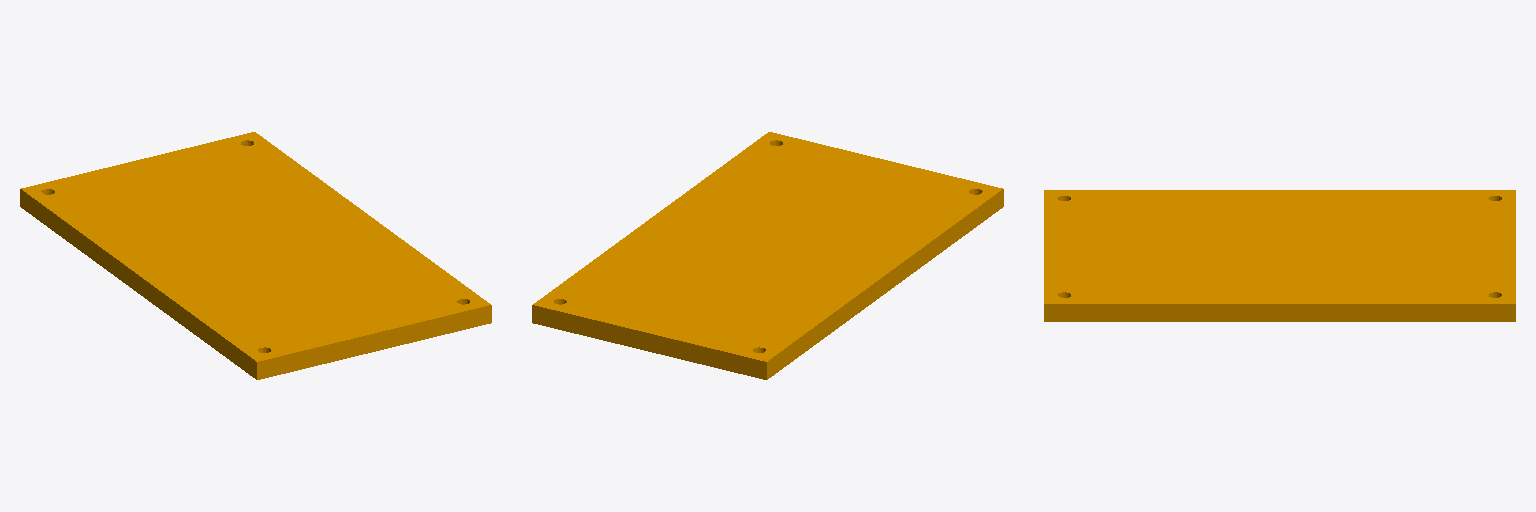
The robot description file, URDF, robot "table":
<?xml version="1.0"?>
<robot name="table">

<link name="base_link">

  <collision>
    <origin xyz="0 0 0" rpy="0 0 0"/>
    <geometry>
      <mesh filename="package://ur_description/meshes/ur3/collision/table.dae" scale="0.01 0.01 0.01"/>
    </geometry>
  </collision>

  <visual>
    <origin xyz="0 0 0" rpy="0 0 0"/>
    <geometry>
      <mesh filename="package://ur_description/meshes/ur3/visual/table.dae" scale="0.01 0.01 0.01"/>
    </geometry>
  </visual>

  <inertial>
   <origin xyz="0 0 0" rpy="0 0 0"/>
   <mass value="0.001" />
   <inertia
      ixx="0.00000379215" ixy="0.00000379215"  ixz="0.00000379215"
      iyy="0.00000379215" iyz="0.00000379215"  izz="0.00000379215" />
  </inertial>

</link>

<gazebo reference="base_link">
  <mu1>100</mu1>
  <mu2>100</mu2>
  <kp>2147483647</kp>
  <kd>1</kd>
  <maxVel>0</maxVel>
  <minDepth>0.001</minDepth>
  <material>Gazebo/WoodFloor</material>
</gazebo>

</robot>

--- What the picture shows (computed from the rendered views, not written in the file) ---
The picture shows the robot from 3 angles, left to right: view 1: azimuth 30°, elevation 25°; view 2: azimuth 150°, elevation 25°; view 3: azimuth 270°, elevation 25°; orthographic projection.
Robot: table — 1 links, 0 joints (none); root link base_link; default pose: every joint at zero.
Visible links, largest first — view 1: base_link; view 2: base_link; view 3: base_link.
Link boxes in pixels (box(x1,y1,x2,y2)): base_link: box(20, 132, 491, 379); base_link: box(532, 132, 1003, 379); base_link: box(1044, 190, 1515, 321).
Size in the robot's own frame: 0.2 by 0.35 by 0.015 metres.
Meshes: 1 distinct files referenced, 1 mesh visuals loaded (1 Collada DAE).
